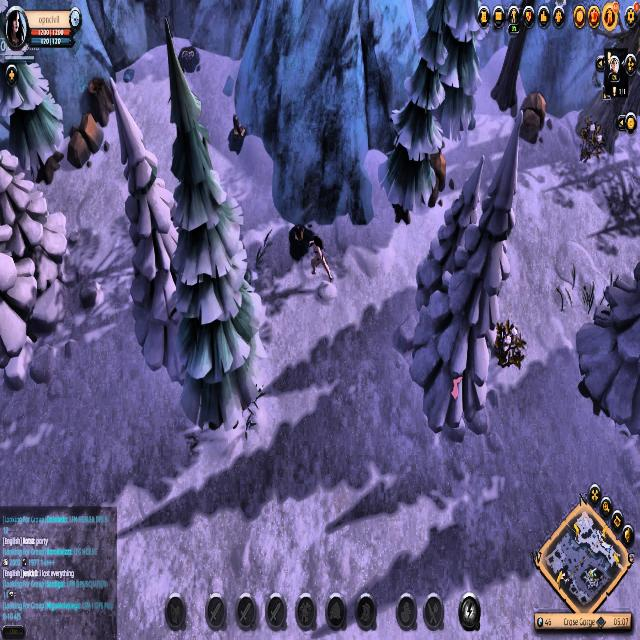copper_ore: (287, 215, 314, 265), (226, 109, 247, 160)
cotton: (490, 322, 530, 376), (578, 108, 604, 168)
limestone: (65, 111, 104, 170), (522, 89, 547, 144)
